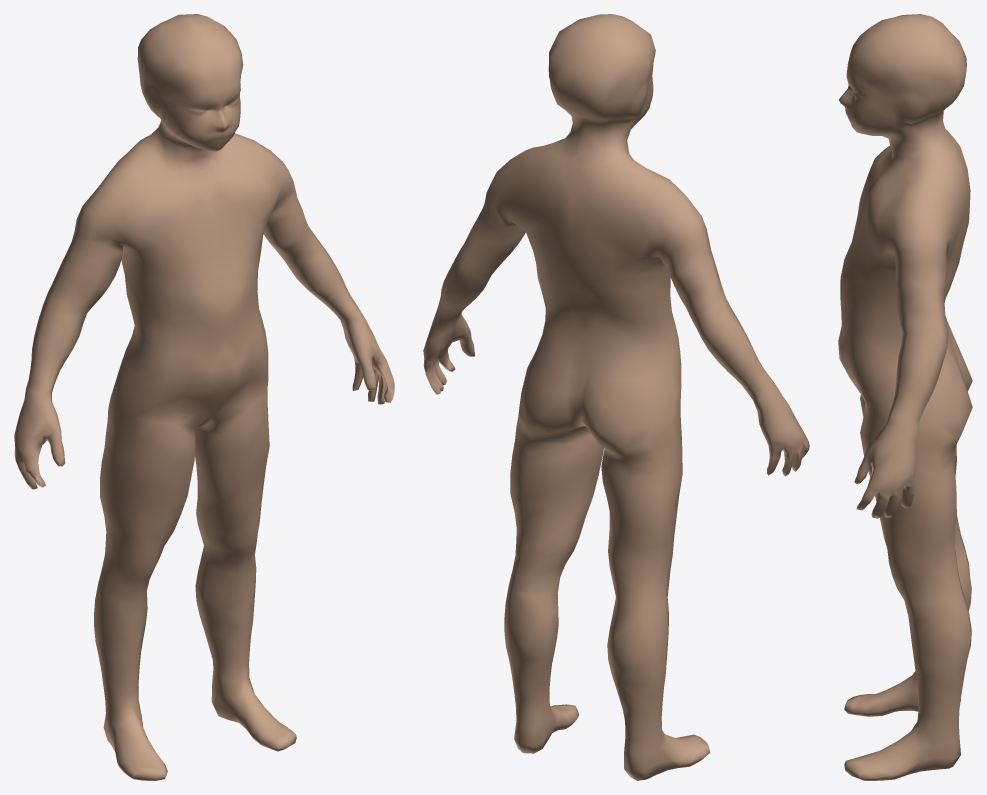
Rendered from Figura-03.fbx.
3 renders of one model, left to right at view 1: azimuth 30°, elevation 25°; view 2: azimuth 150°, elevation 25°; view 3: azimuth 270°, elevation 25°, orthographic.
Visible parts, largest first — view 1: humanBody; view 2: humanBody; view 3: humanBody.
Boxes of the visible parts, x1=… form: humanBody: x1=14, y1=14, x2=394, y2=780; humanBody: x1=423, y1=14, x2=809, y2=780; humanBody: x1=838, y1=14, x2=972, y2=780.
Bounding box in the file's own units: 36.72 × 69.2 × 11.65.
